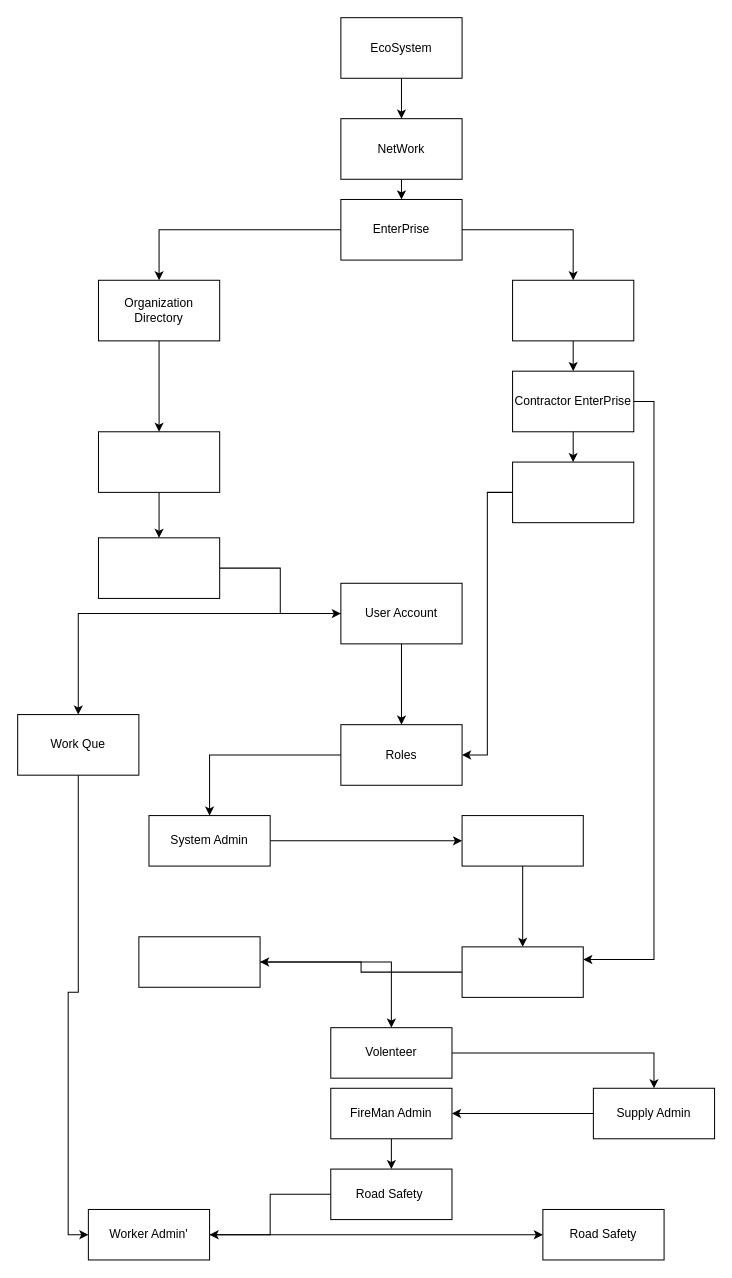
The diagram is 732 pixels wide and 1278 high, and some of its shapes have lost their labels. The centre of each missing label's shape, as x and y in pixels:
Community Admin: the point at 199,961
Contractor Admin: the point at 522,971
Govt Admin: the point at 522,840
Organization: the point at 158,461
Police: the point at 573,310
User Account Dir: the point at 158,567
Worker Enterprise: the point at 573,492
